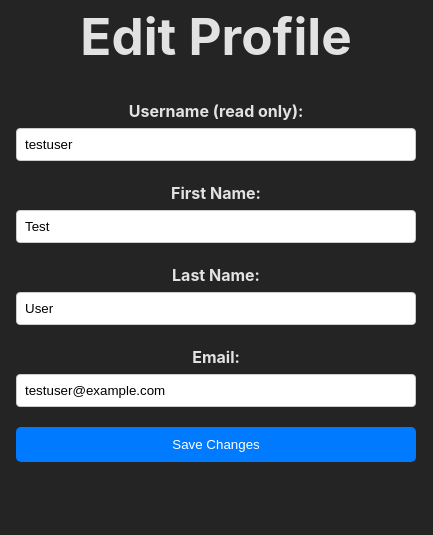
it: Profile component › handles API errors gracefully
Expected: the field labelled "Username (read only):" holds "testuser", [16,128,416,161]
Replace the text in the field labelled "First Name:" with "NewFirstName" at {"x": 216, "y": 226}, box [16,210,416,243]
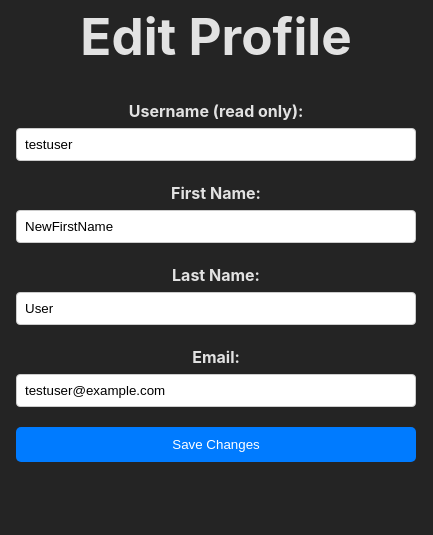
Replace the text in the field labelled "Last Name:" with "NewLastName" at {"x": 216, "y": 308}, box [16,292,416,325]
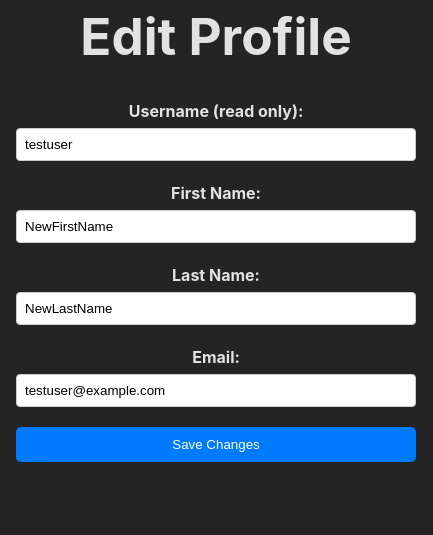
Replace the text in the field labelled "Email:" with "newemail@example.com" at {"x": 216, "y": 390}, box [16,374,416,407]
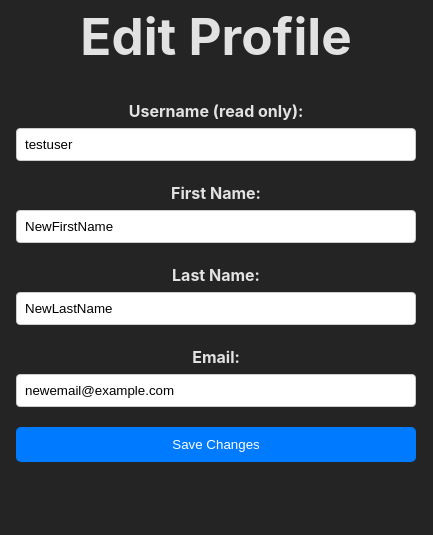
Click the button "Save Changes" at {"x": 216, "y": 444}, box [16,427,416,462]
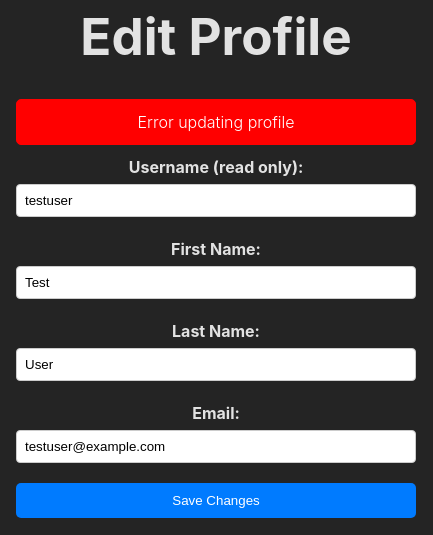
Result: the text "Error updating profile" is shown at [16,99,416,145]
